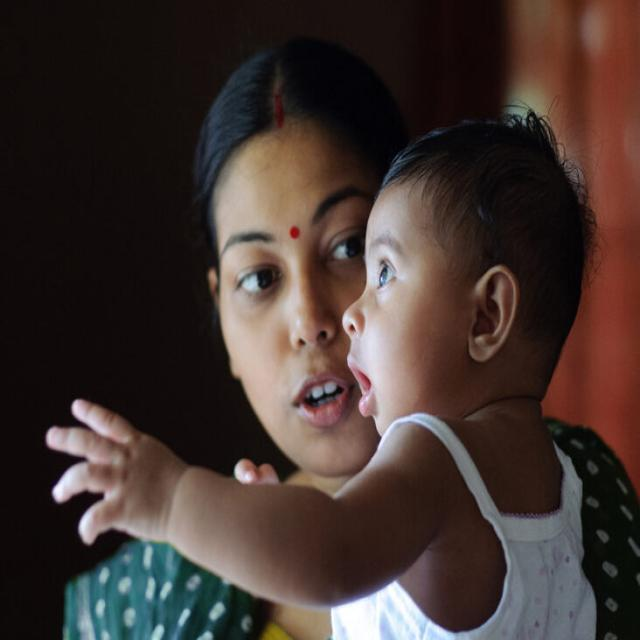non-dog: (39, 101, 603, 640), (185, 33, 411, 640)
